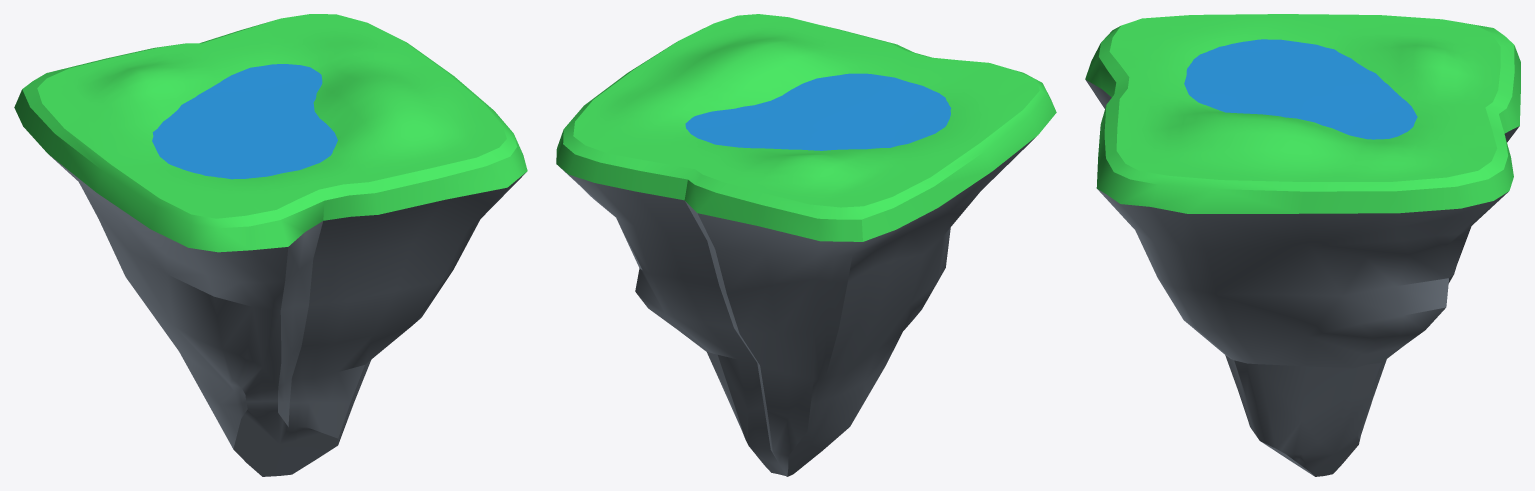
File: island_01_water.fbx
3 renders of one model, left to right at view 1: azimuth 30°, elevation 25°; view 2: azimuth 150°, elevation 25°; view 3: azimuth 270°, elevation 25°, orthographic. The views are drawn at different scales.
Visible parts, largest first — view 1: Cube.146; view 2: Cube.146; view 3: Cube.146.
Boxes of the visible parts, x1,y1,x2,y2 form: Cube.146: (14,14,527,476); Cube.146: (556,14,1056,476); Cube.146: (1085,14,1520,476).
Size of the model in its own units: 3809 by 3784 by 3877.
